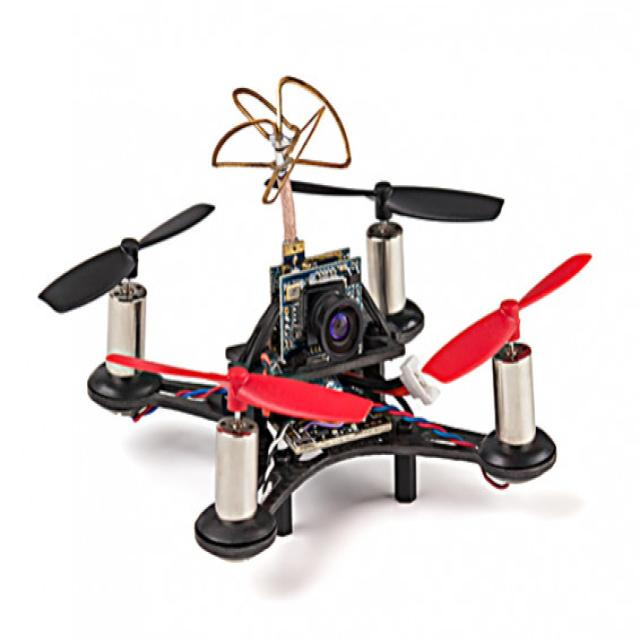drone: (6, 98, 582, 577)
